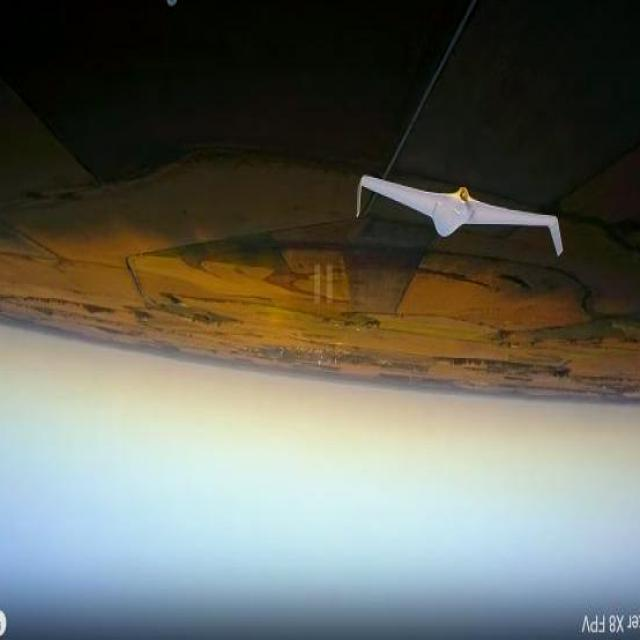plane: (354, 173, 564, 260)
